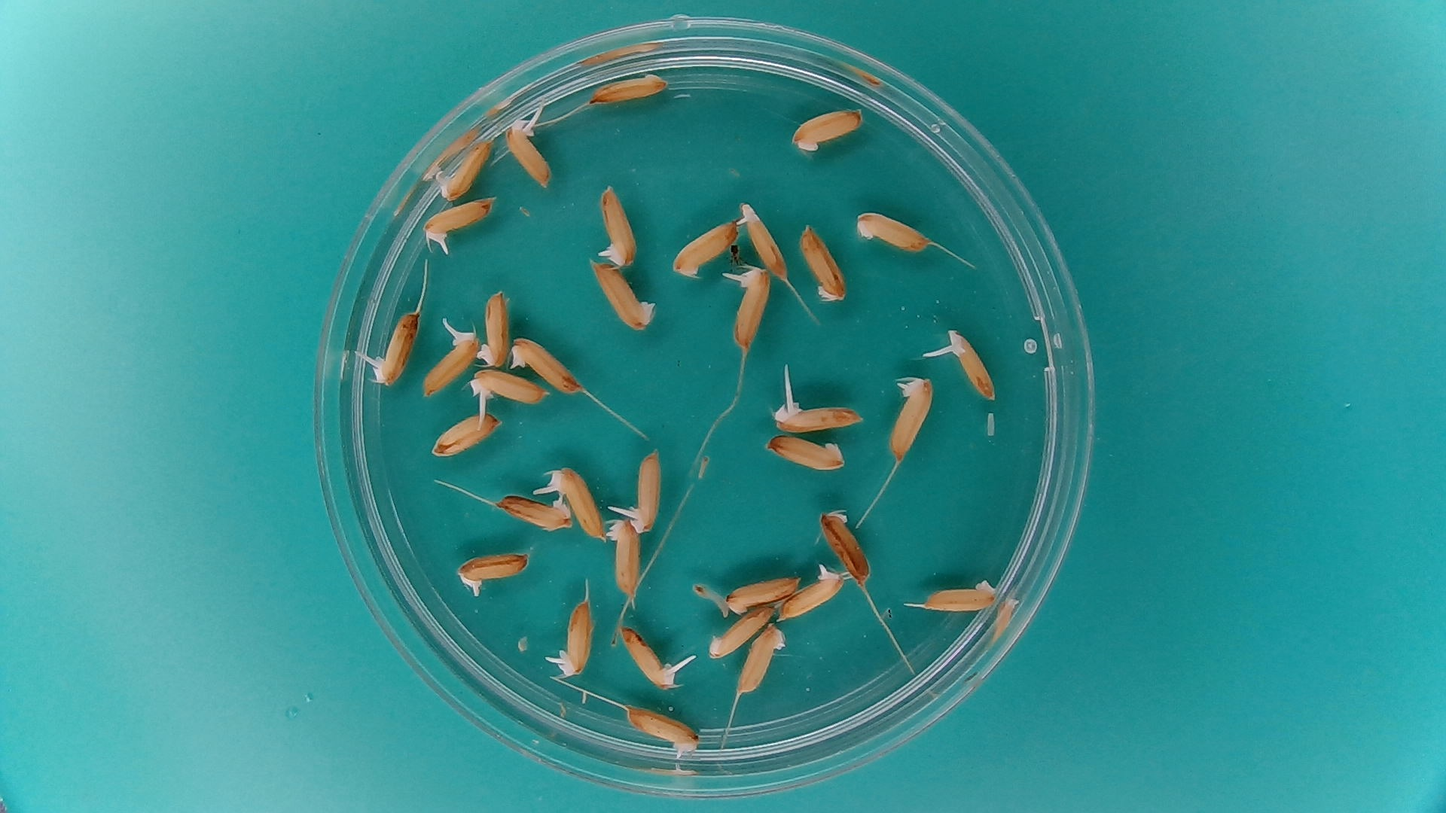no: (587, 260, 658, 331), (669, 216, 743, 280), (797, 220, 851, 306), (817, 506, 874, 584), (789, 103, 867, 154), (706, 604, 777, 659), (852, 206, 933, 253), (430, 405, 502, 457), (737, 622, 786, 696), (762, 431, 847, 473), (489, 492, 575, 533), (917, 574, 1002, 615), (587, 67, 672, 105), (721, 575, 801, 614), (474, 286, 511, 370), (609, 515, 645, 598)
yes: (358, 306, 422, 387), (419, 314, 478, 398), (887, 369, 938, 465), (723, 262, 776, 351), (508, 333, 585, 394), (546, 464, 606, 540), (419, 194, 497, 252), (737, 198, 792, 280), (623, 703, 703, 758), (942, 327, 1001, 401), (777, 564, 849, 621), (593, 181, 639, 269), (435, 135, 496, 201), (502, 114, 554, 191), (462, 366, 550, 410), (453, 549, 532, 597), (617, 630, 679, 690), (551, 594, 595, 677), (622, 447, 663, 534), (769, 400, 861, 433)
